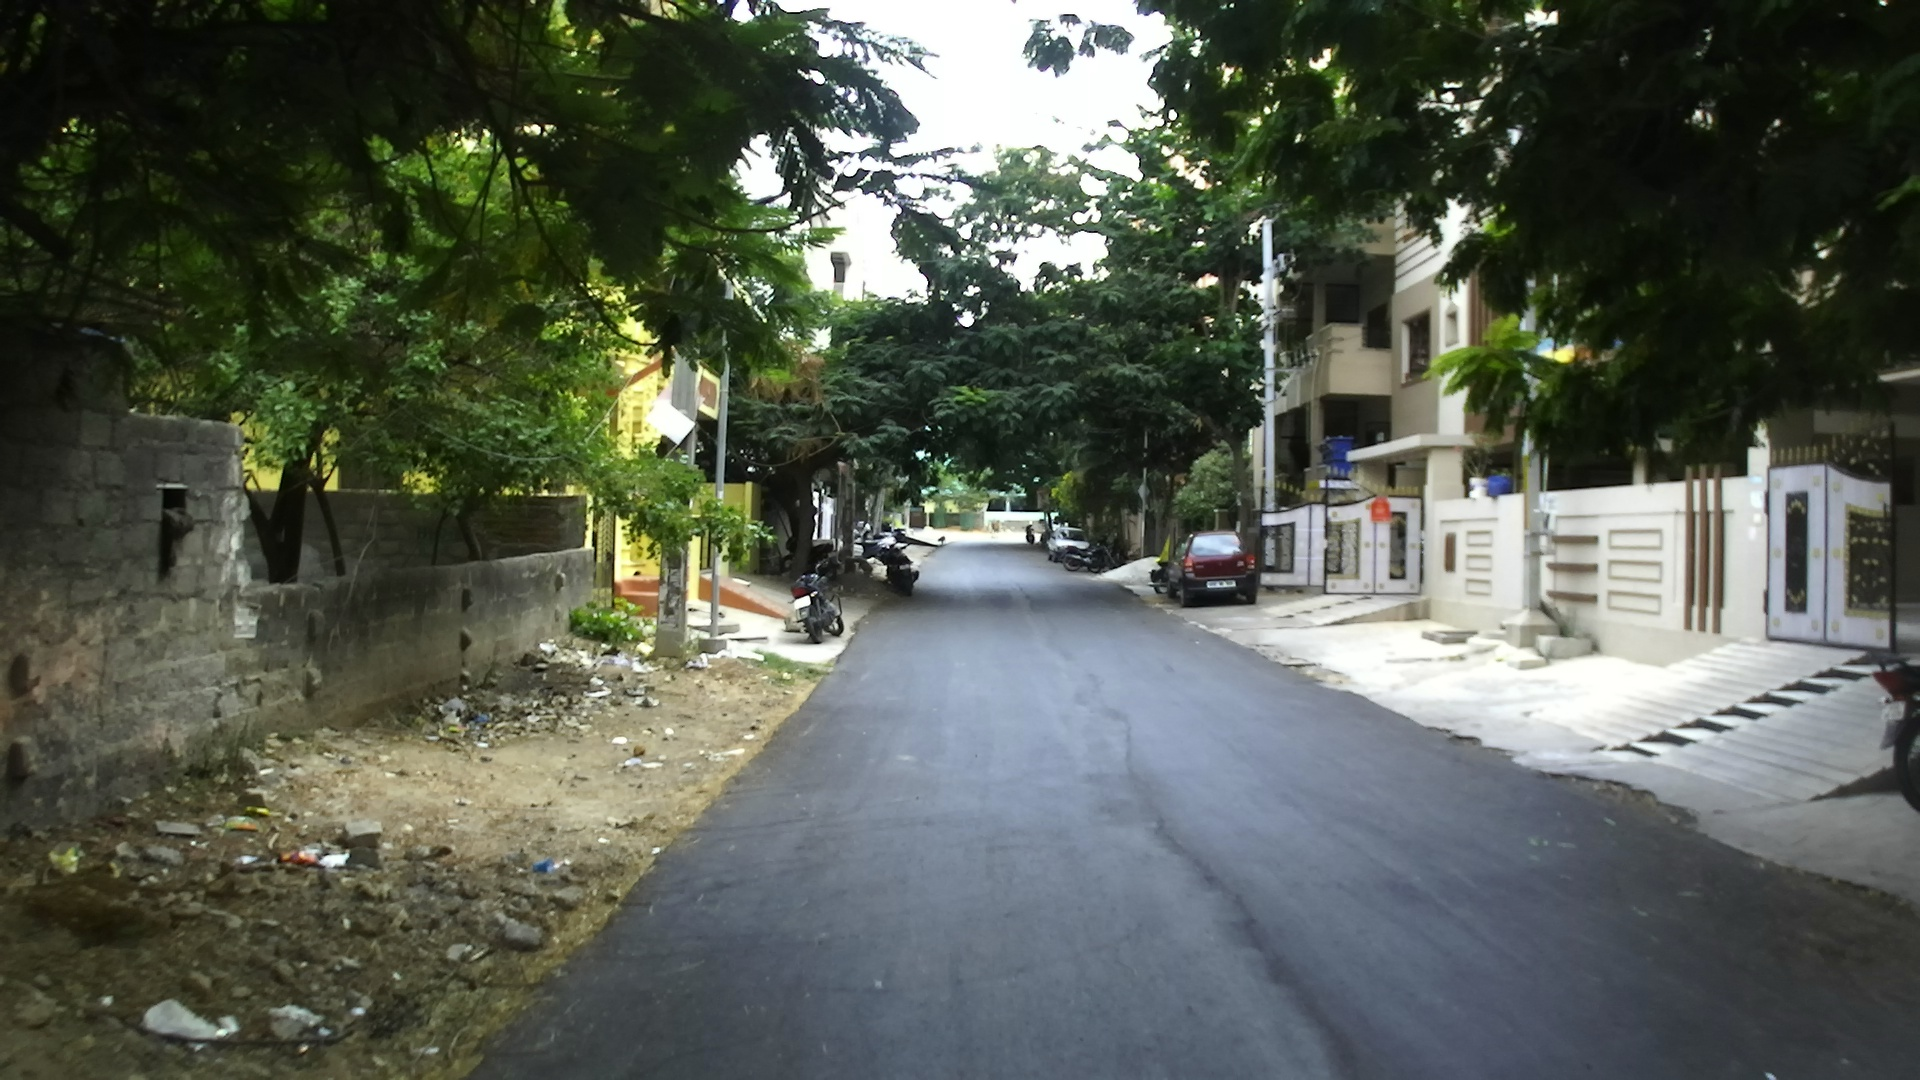vehicle: (1874, 642, 1919, 814), (1166, 533, 1258, 605), (1048, 533, 1098, 571)
